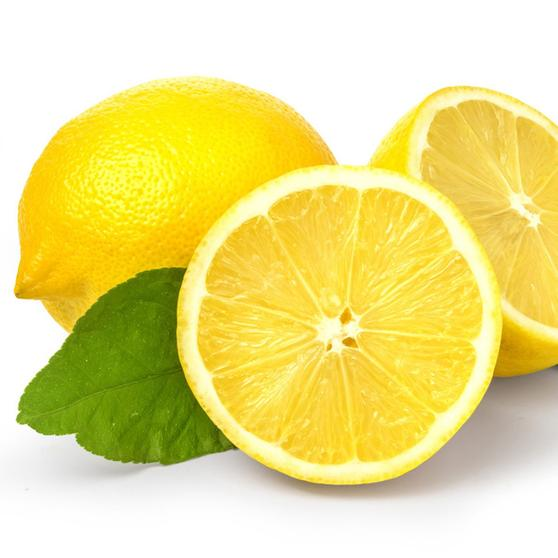lemon: (21, 76, 339, 348)
